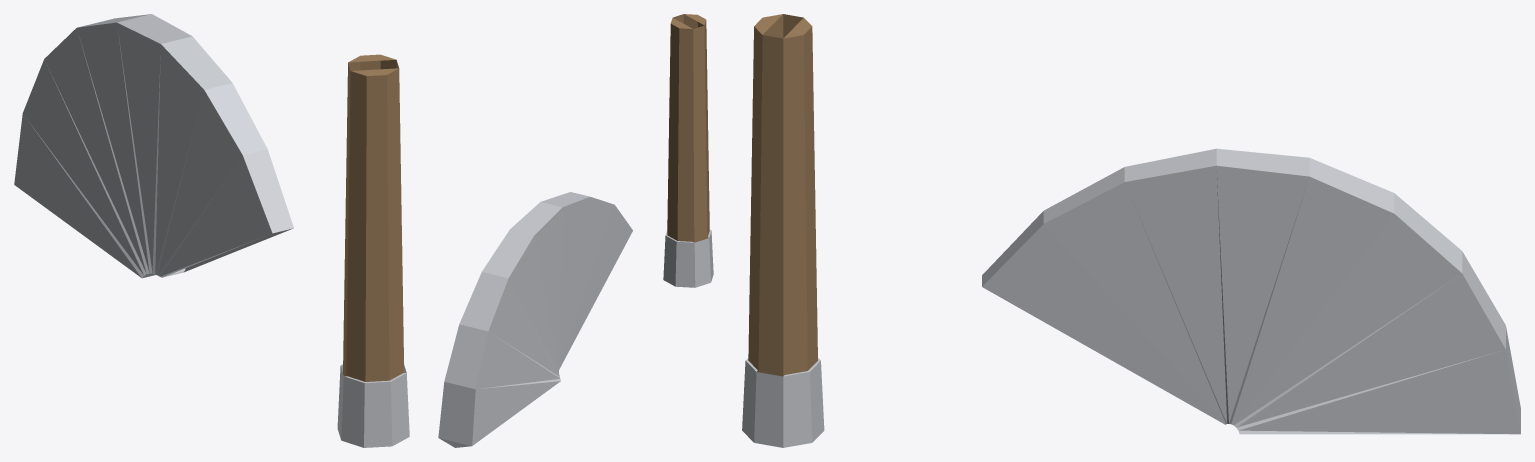
File: hoz.glb
3 views of the same model, side by side, from view 1: azimuth 30°, elevation 25°; view 2: azimuth 150°, elevation 25°; view 3: azimuth 270°, elevation 25° (orthographic). The views are drawn at different scales.
Parts seen in each view (by area): view 1: Hoja, Mango, Virola; view 2: Hoja, Mango, Virola; view 3: Hoja, Mango, Virola.
Part boxes in pixels (bbox=[...]): Hoja: bbox=[14, 14, 293, 278]; Mango: bbox=[343, 54, 404, 381]; Virola: bbox=[337, 364, 409, 447]; Hoja: bbox=[438, 192, 632, 447]; Mango: bbox=[667, 14, 709, 242]; Virola: bbox=[663, 229, 713, 287]; Hoja: bbox=[982, 148, 1520, 434]; Mango: bbox=[748, 14, 817, 376]; Virola: bbox=[742, 358, 824, 447].
Bounding box in the file's own units: 0.048 × 0.26 × 0.454.
